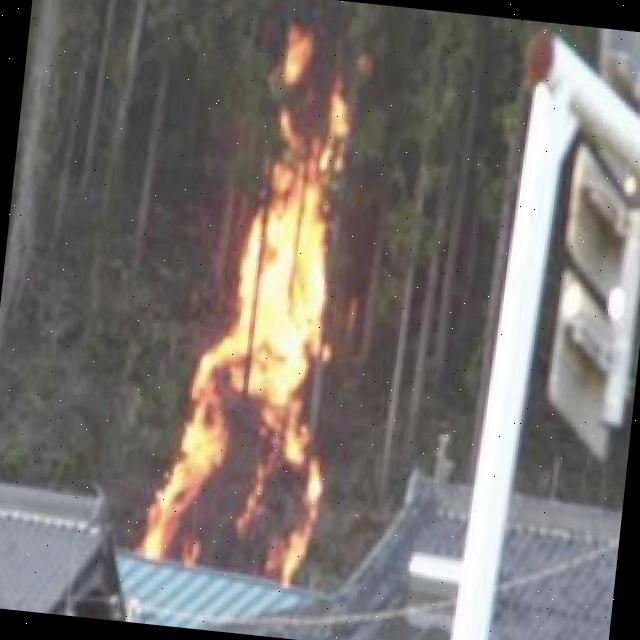fire: (195, 34, 370, 586)
